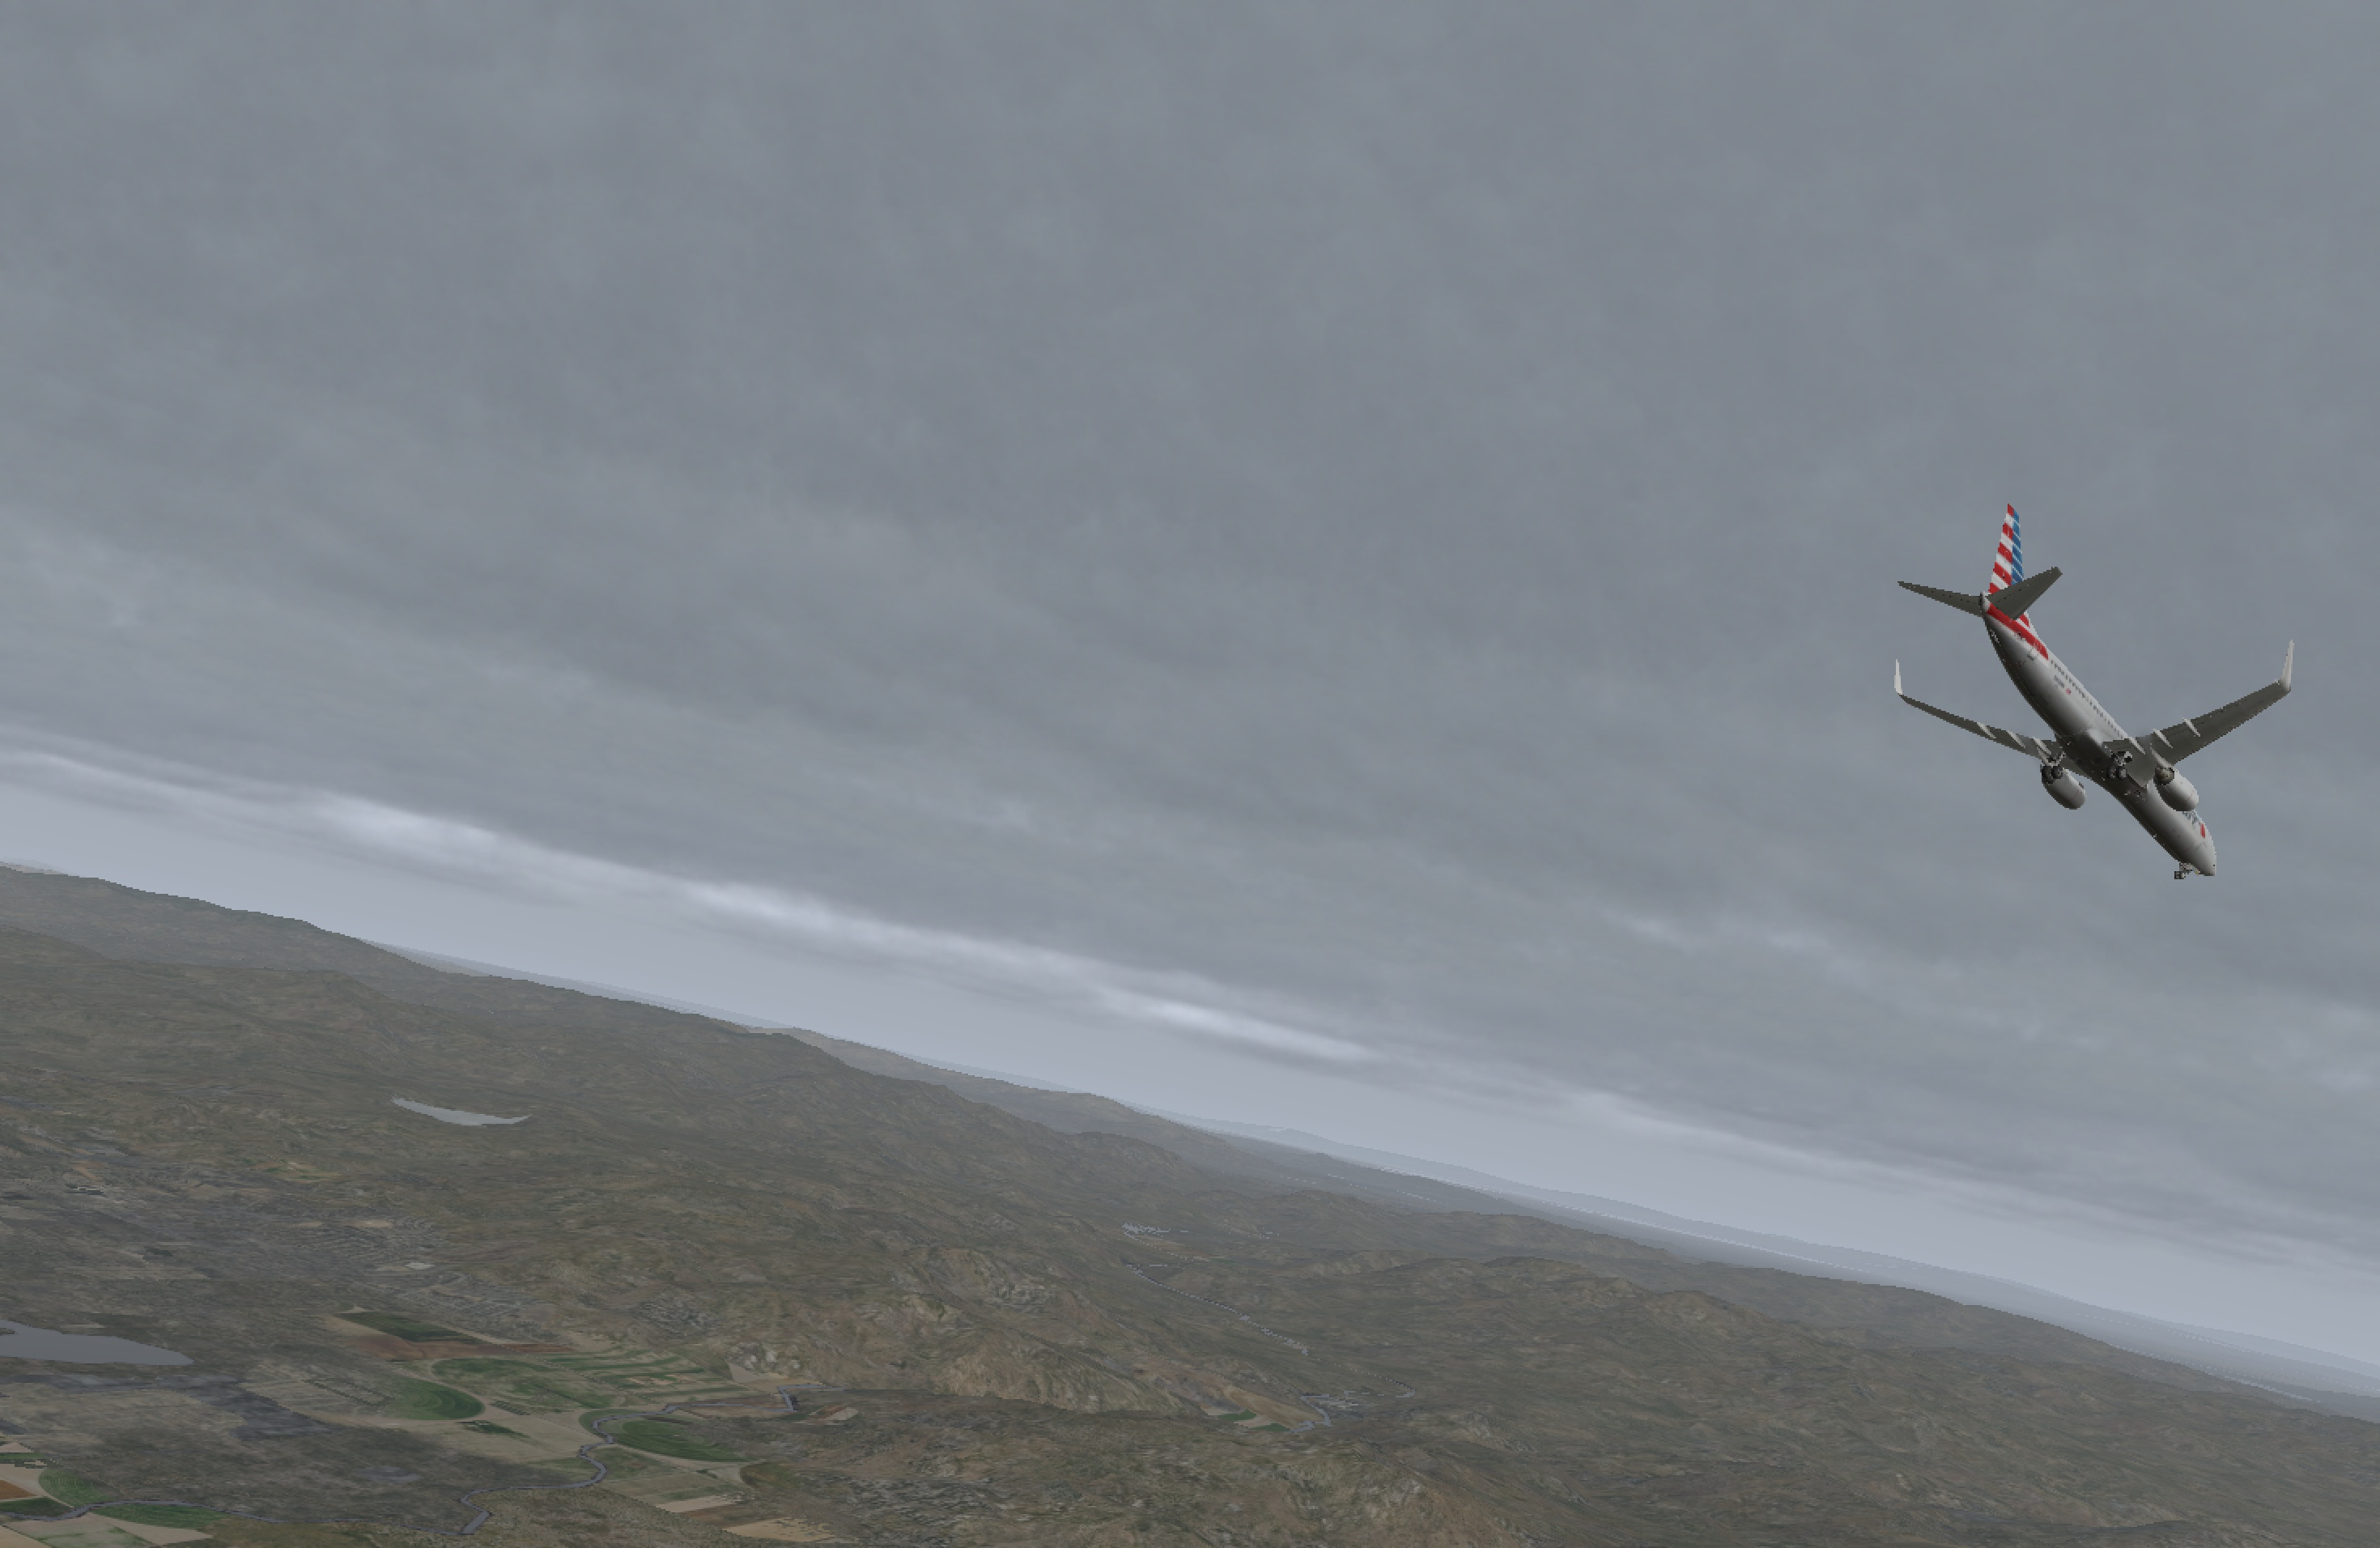aircraft: (1880, 673, 2326, 840)
